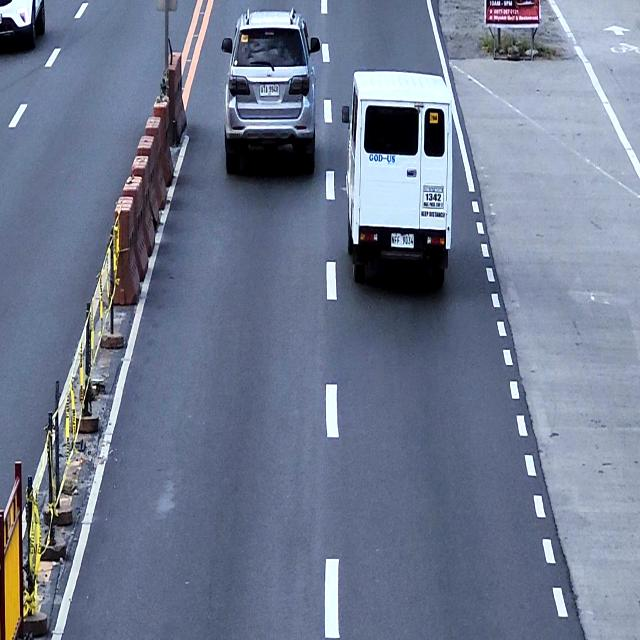Car: (342, 69, 454, 284), (221, 7, 320, 174), (0, 0, 46, 53)
License-Plate: (390, 230, 415, 249), (260, 83, 280, 97)
